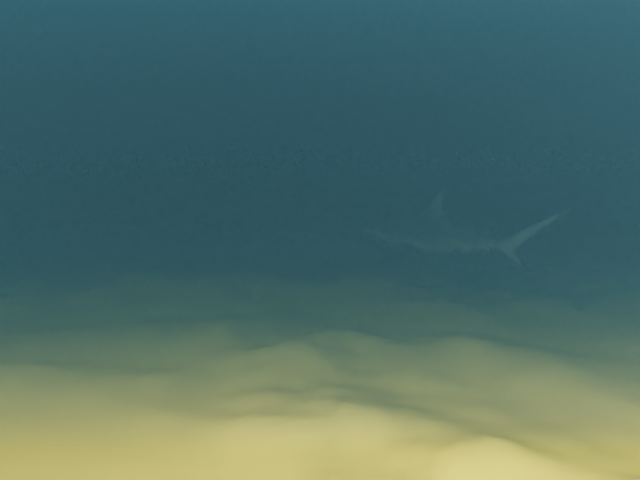Carribean Shark.001: (361, 187, 572, 272)
